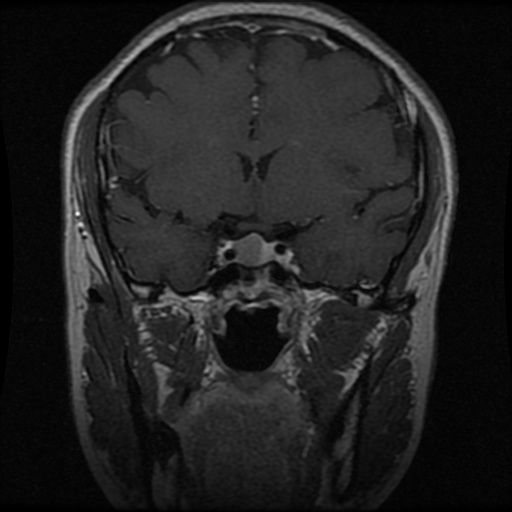pituitary: (235, 232, 265, 264)
